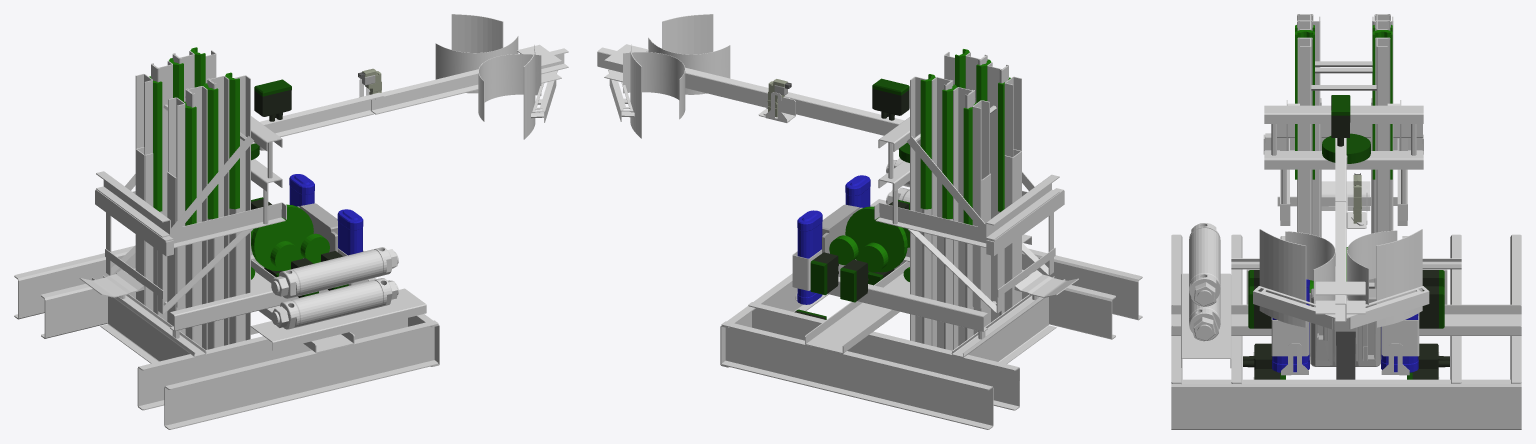
File: Luigi_Complete.fbx
The picture shows the model from 3 angles, left to right: view 1: azimuth 30°, elevation 25°; view 2: azimuth 150°, elevation 25°; view 3: azimuth 270°, elevation 25°; orthographic projection. The views are drawn at different scales.
Visible parts, largest first — view 1: Chassis, Lift_Stage3, Reservoirs, LiftBase, Lift_Stage1, Lift_Stage2, Inner Cups, GearBox, LiftBase_sliders, Arm End, Arm Base, Arm Clamp (+8 smaller); view 2: Chassis, Lift_Stage3, LiftBase, Lift_Stage1, Lift_Stage2, Inner Cups, GearBox, Batteries, Arm End, Arm Base, LiftBase_sliders, Arm Clamp.002 (+14 smaller); view 3: Chassis, Lift_Stage3, Reservoirs, Arm Clamp.002, Arm Clamp, Inner Cups, Cortex_Holsters, Cortex, LiftBase, Lift_Stage2_sliders, Cube.001, Arm End (+15 smaller).
Part boxes in pixels (x1,y1,x2,y2): Chassis: (14,246,439,429); Lift_Stage3: (95,50,286,344); Reservoirs: (250,247,426,350); LiftBase: (135,74,185,334); Lift_Stage1: (151,61,207,349); Lift_Stage2: (172,51,229,349); Inner Cups: (435,36,541,121); GearBox: (251,204,329,279); LiftBase_sliders: (149,76,196,225); Arm End: (371,48,568,114); Arm Base: (252,92,383,143); Arm Clamp: (451,14,557,70); Chassis: (720,247,1142,429); Lift_Stage3: (874,52,1064,345); LiftBase: (972,76,1021,334); Lift_Stage1: (953,62,1008,349); Lift_Stage2: (931,52,987,350); Inner Cups: (623,37,730,119); GearBox: (829,206,909,281); Batteries: (797,175,870,304); Arm End: (597,47,789,107); Arm Base: (784,92,904,135); LiftBase_sliders: (963,77,1010,225); Arm Clamp.002: (608,14,713,71); Chassis: (1171,234,1521,429); Lift_Stage3: (1263,37,1423,364); Reservoirs: (1181,223,1231,368); Arm Clamp.002: (1253,229,1347,329); Arm Clamp: (1346,229,1429,329); Inner Cups: (1285,230,1397,307); Cortex_Holsters: (1271,313,1419,375); Cortex: (1309,288,1381,366); LiftBase: (1313,16,1393,282); Lift_Stage2_sliders: (1295,30,1392,179); Cube.001: (1315,281,1365,314); Arm End: (1335,202,1346,321).
Size of the model in its own units: 78.14 by 45.38 by 44.49.
